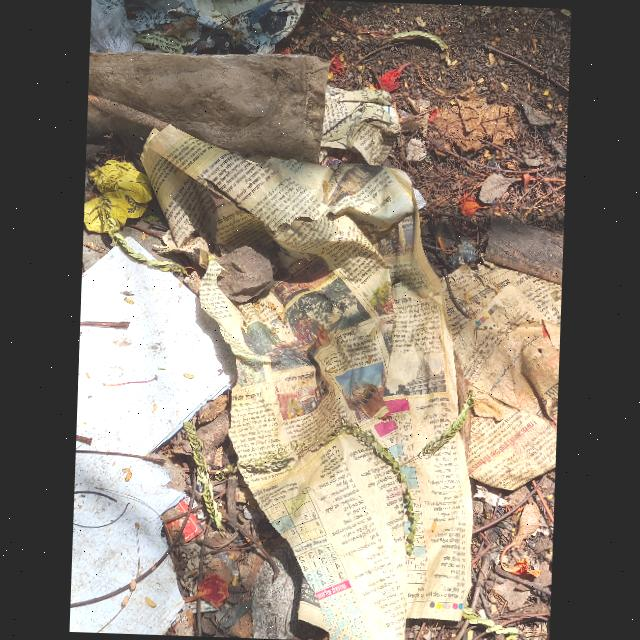trash: (122, 111, 488, 640), (70, 234, 238, 637), (134, 121, 445, 315), (220, 359, 417, 640), (433, 259, 562, 492), (86, 46, 332, 164), (89, 0, 306, 59)
